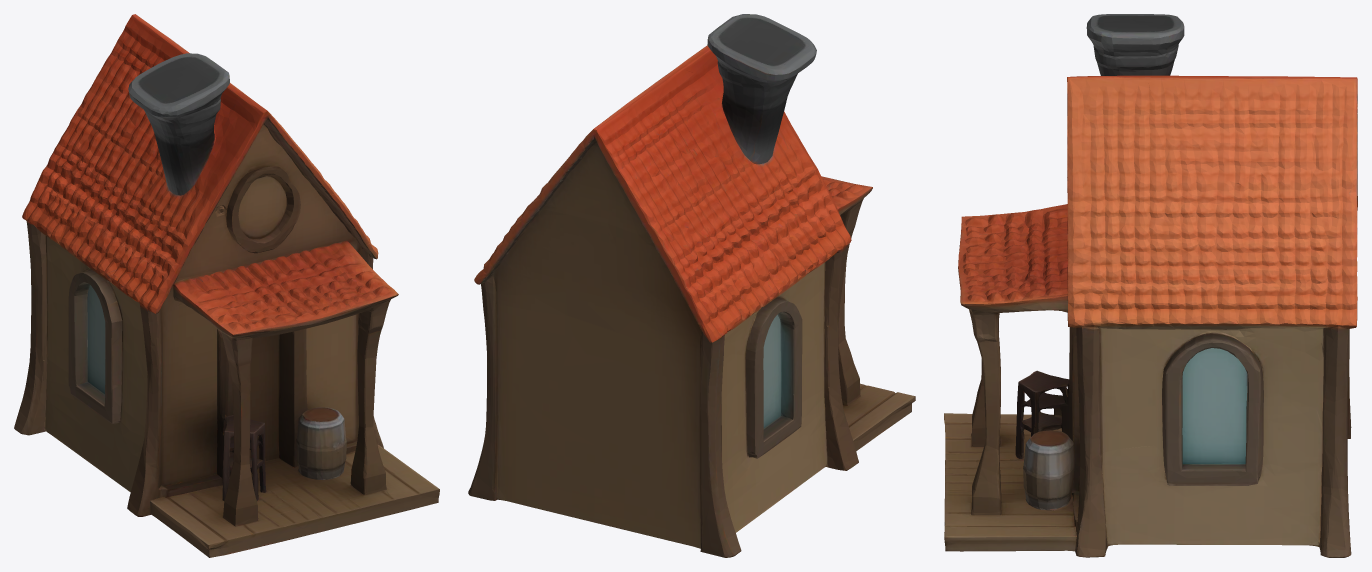
Rendered from 3deditformer_t02.glb.
3 views of the same model, side by side, from view 1: azimuth 30°, elevation 25°; view 2: azimuth 150°, elevation 25°; view 3: azimuth 270°, elevation 25° (orthographic). The views are drawn at different scales.
Parts seen in each view (by area): view 1: geometry_0; view 2: geometry_0; view 3: geometry_0.
Part boxes in pixels (box(x1,y1,x2,y2)): geometry_0: box(14, 14, 439, 557); geometry_0: box(468, 14, 915, 557); geometry_0: box(944, 14, 1357, 557).
Bounding box in the file's own units: 0.727 × 1.13 × 0.9493.
Materials: 1 (1 with a texture image).
